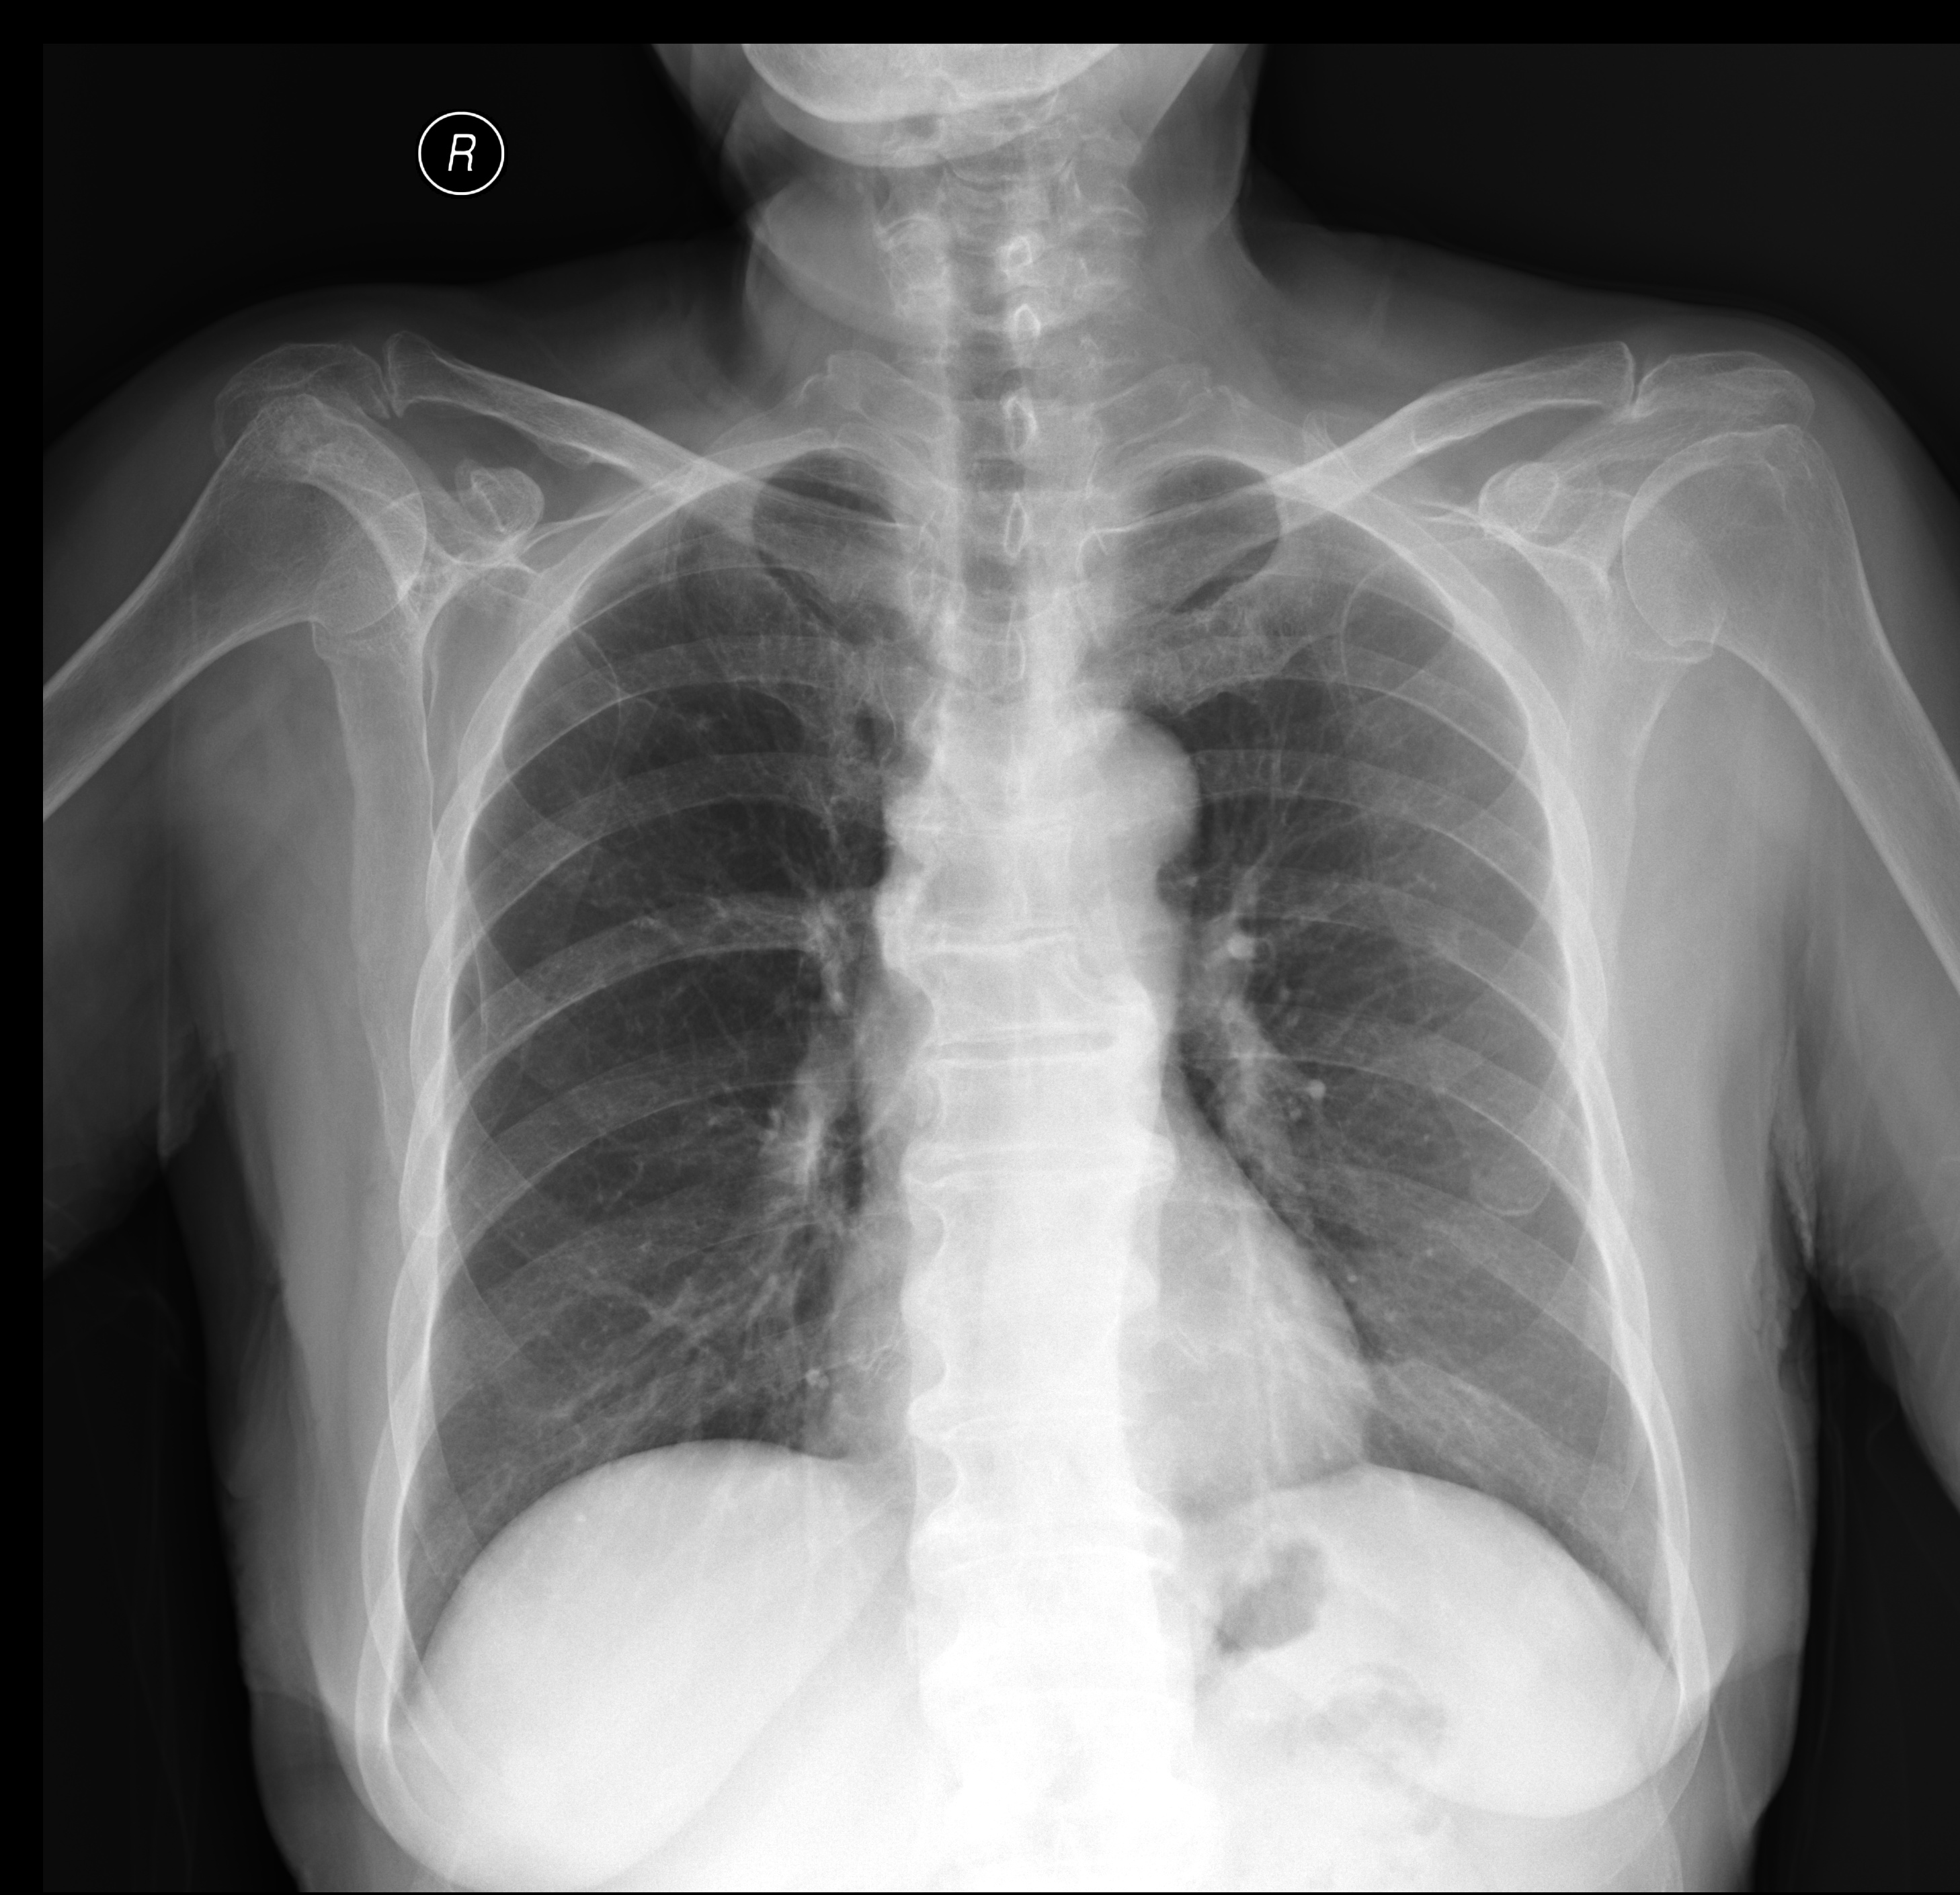nodule: (651, 681, 737, 768)
